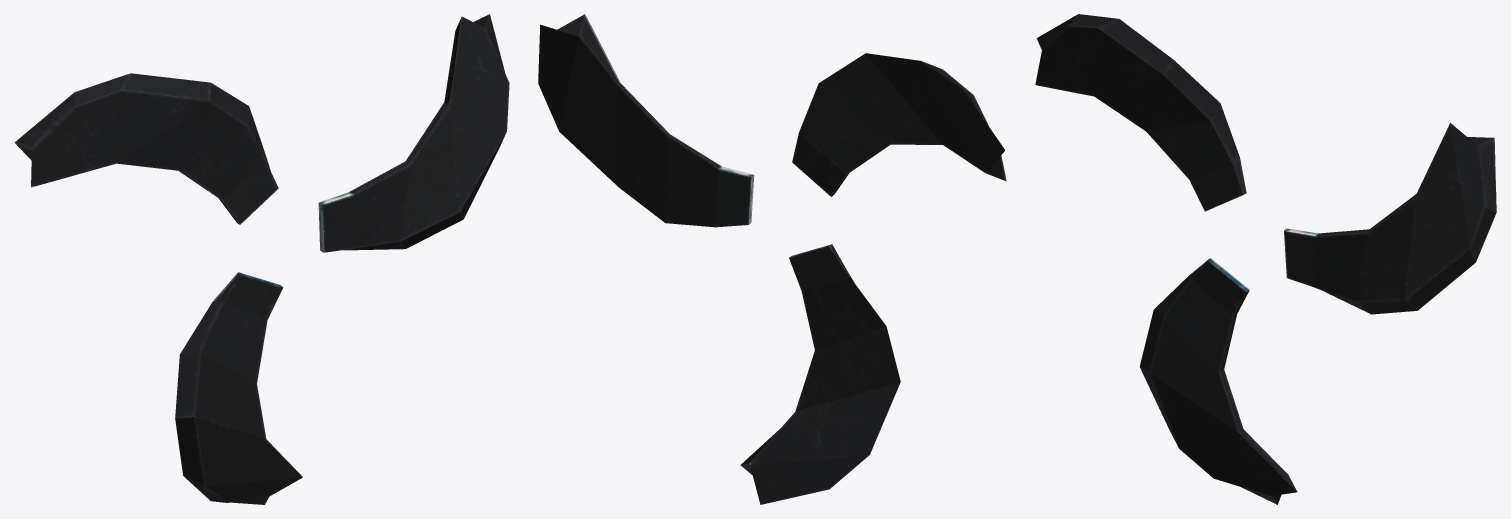
File: TvRight.gltf
The picture shows the model from 3 angles, left to right: view 1: azimuth 30°, elevation 25°; view 2: azimuth 150°, elevation 25°; view 3: azimuth 330°, elevation 25°; orthographic projection. The views are drawn at different scales.
Parts seen in each view (by area): view 1: Cube.016; view 2: Cube.016; view 3: Cube.016.
Part boxes in pixels (x1=…): Cube.016: x1=14, y1=14, x2=509, y2=504; Cube.016: x1=538, y1=14, x2=1006, y2=504; Cube.016: x1=1035, y1=14, x2=1496, y2=504.
Bounding box in the file's own units: 0.9134 × 0.8607 × 0.1023.
1 material, 1 textured.
